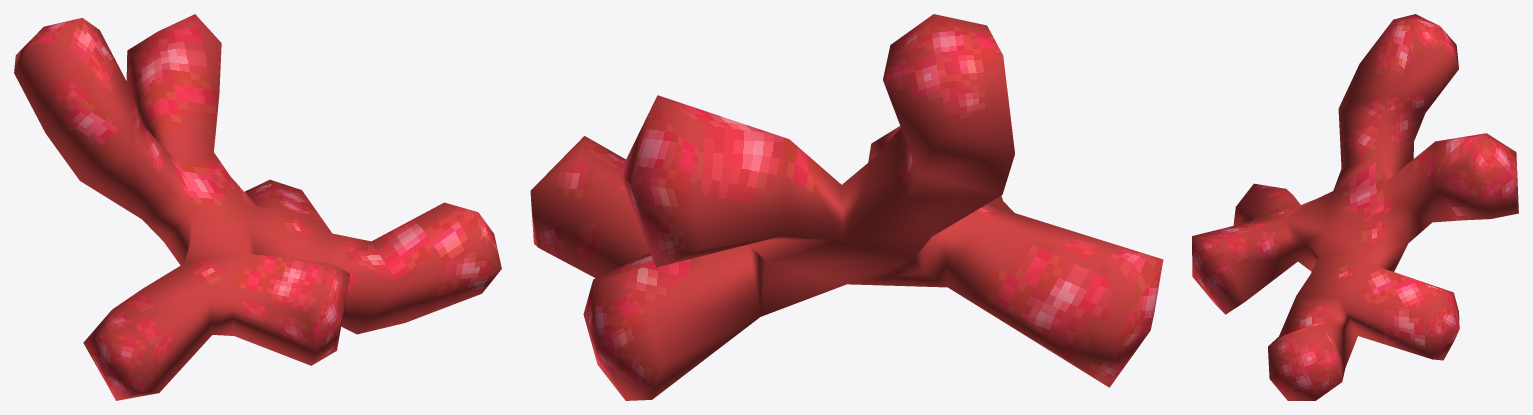
The model's file is int_shl_sango.dae.
3 renders of one model, left to right at view 1: azimuth 30°, elevation 25°; view 2: azimuth 150°, elevation 25°; view 3: azimuth 270°, elevation 25°, orthographic. The views are drawn at different scales.
Visible parts, largest first — view 1: int_shl_sango; view 2: int_shl_sango; view 3: int_shl_sango.
Part boxes in pixels (x1=…): int_shl_sango: x1=14, y1=14, x2=501, y2=400; int_shl_sango: x1=530, y1=14, x2=1163, y2=400; int_shl_sango: x1=1192, y1=14, x2=1518, y2=400.
Size of the model in its own units: 12.76 by 9.31 by 10.56.
Materials: 1 (1 with a texture image).
